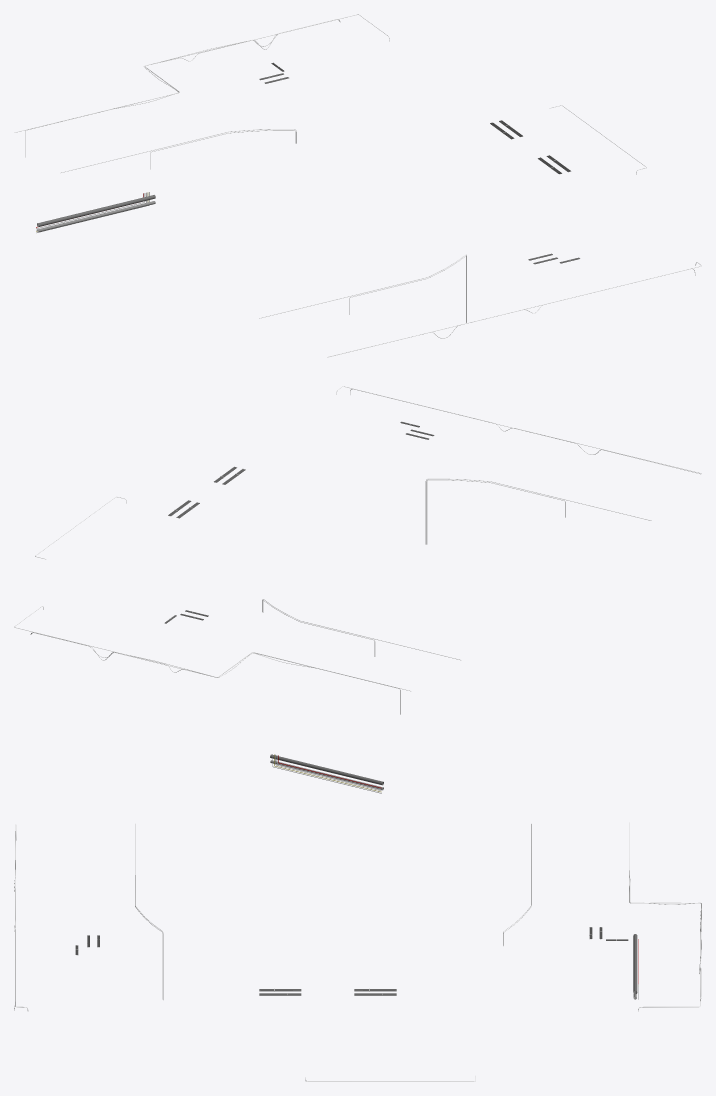
3 renders of one model, top to bottom at view 1: azimuth 30°, elevation 25°; view 2: azimuth 150°, elevation 25°; view 3: azimuth 270°, elevation 25°, orthographic. The views are drawn at different scales.
Parts seen in each view (by area): view 1: SM_H_Building_FutureTech_HOrange_01_InterWall_03B; view 2: SM_H_Building_FutureTech_HOrange_01_InterWall_03B; view 3: SM_H_Building_FutureTech_HOrange_01_InterWall_03B.
Boxes of the visible parts, left/top/right/bottom form: SM_H_Building_FutureTech_HOrange_01_InterWall_03B: left=14, top=14, right=701, bottom=357; SM_H_Building_FutureTech_HOrange_01_InterWall_03B: left=14, top=386, right=701, bottom=793; SM_H_Building_FutureTech_HOrange_01_InterWall_03B: left=14, top=822, right=701, bottom=1081.
Bounding box in the file's own units: 1442 × 1142 × 273.
